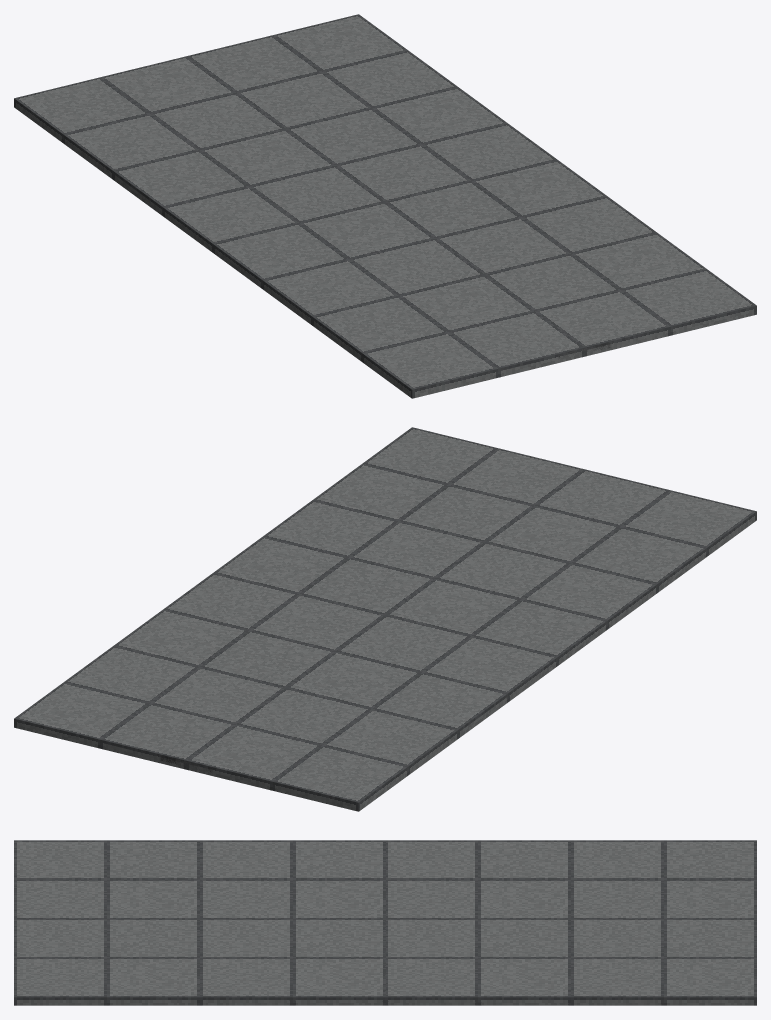
File: env_alley_floor.glb
3 views of the same model, one above another, from view 1: azimuth 30°, elevation 25°; view 2: azimuth 150°, elevation 25°; view 3: azimuth 270°, elevation 25° (orthographic). The views are drawn at different scales.
Parts seen in each view (by area): view 1: env_alley_floor; view 2: env_alley_floor; view 3: env_alley_floor.
Part boxes in pixels (left/top/right/bottom): env_alley_floor: left=14, top=14, right=756, bottom=398; env_alley_floor: left=14, top=427, right=756, bottom=811; env_alley_floor: left=14, top=840, right=756, bottom=1005.
Size of the model in its own units: 4 by 0.1 by 8.
2 materials, 2 textured.
